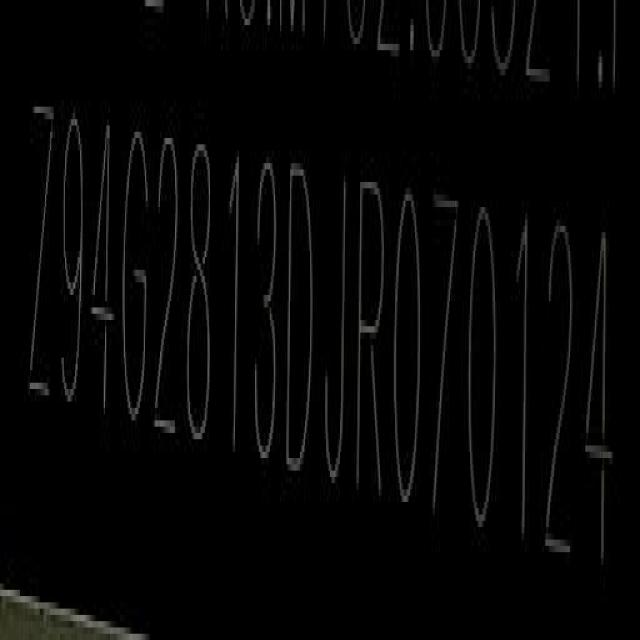0: (465, 186, 501, 534), (391, 186, 424, 518)
1: (513, 209, 532, 558), (225, 137, 244, 465)
2: (544, 198, 574, 567), (152, 118, 180, 456)
3: (253, 137, 281, 474)
4: (584, 223, 613, 565), (87, 116, 118, 425)
7: (431, 191, 460, 504)
8: (183, 130, 213, 458)
9: (58, 109, 86, 421)
D: (284, 144, 318, 481)
G: (121, 123, 150, 442)
J: (323, 172, 347, 490)
R: (355, 176, 388, 506)
Z: (27, 98, 55, 432)
